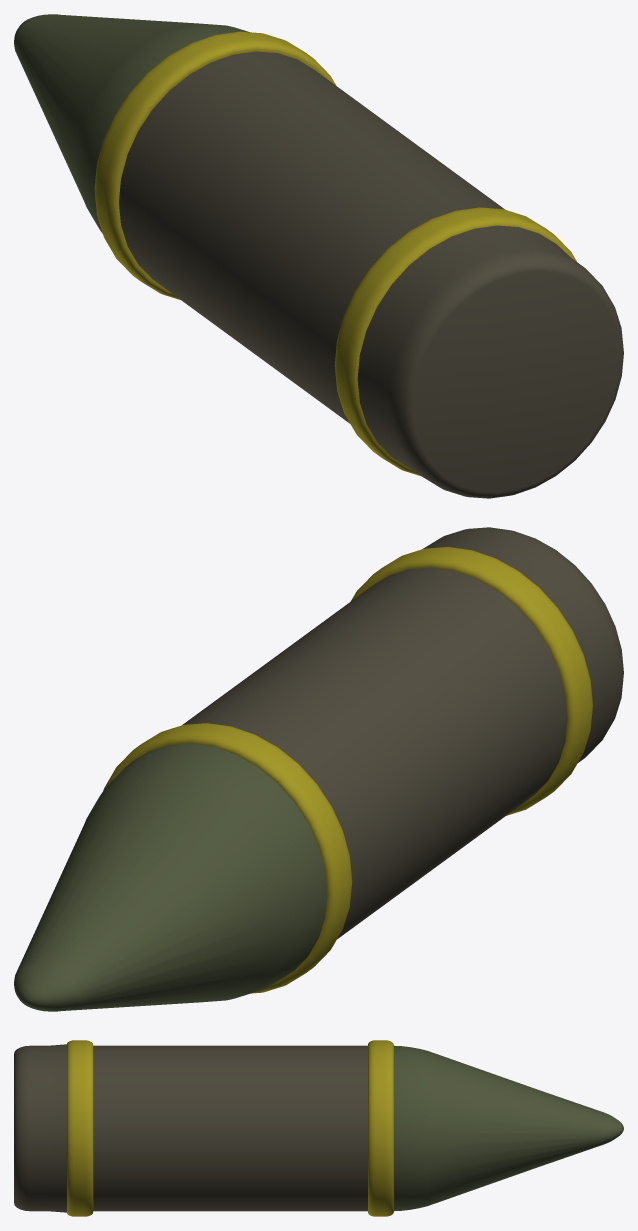
Rendered from Shell_001.fbx.
3 views of the same model, one above another, from view 1: azimuth 30°, elevation 25°; view 2: azimuth 150°, elevation 25°; view 3: azimuth 270°, elevation 25° (orthographic). The views are drawn at different scales.
Visible parts, largest first — view 1: Cylinder; view 2: Cylinder; view 3: Cylinder.
Boxes of the visible parts, x1,y1,x2,y2 form: Cylinder: (14,14,623,498); Cylinder: (14,527,623,1011); Cylinder: (14,1040,623,1216).
Bounding box in the file's own units: 2.13 × 2.13 × 7.37.
